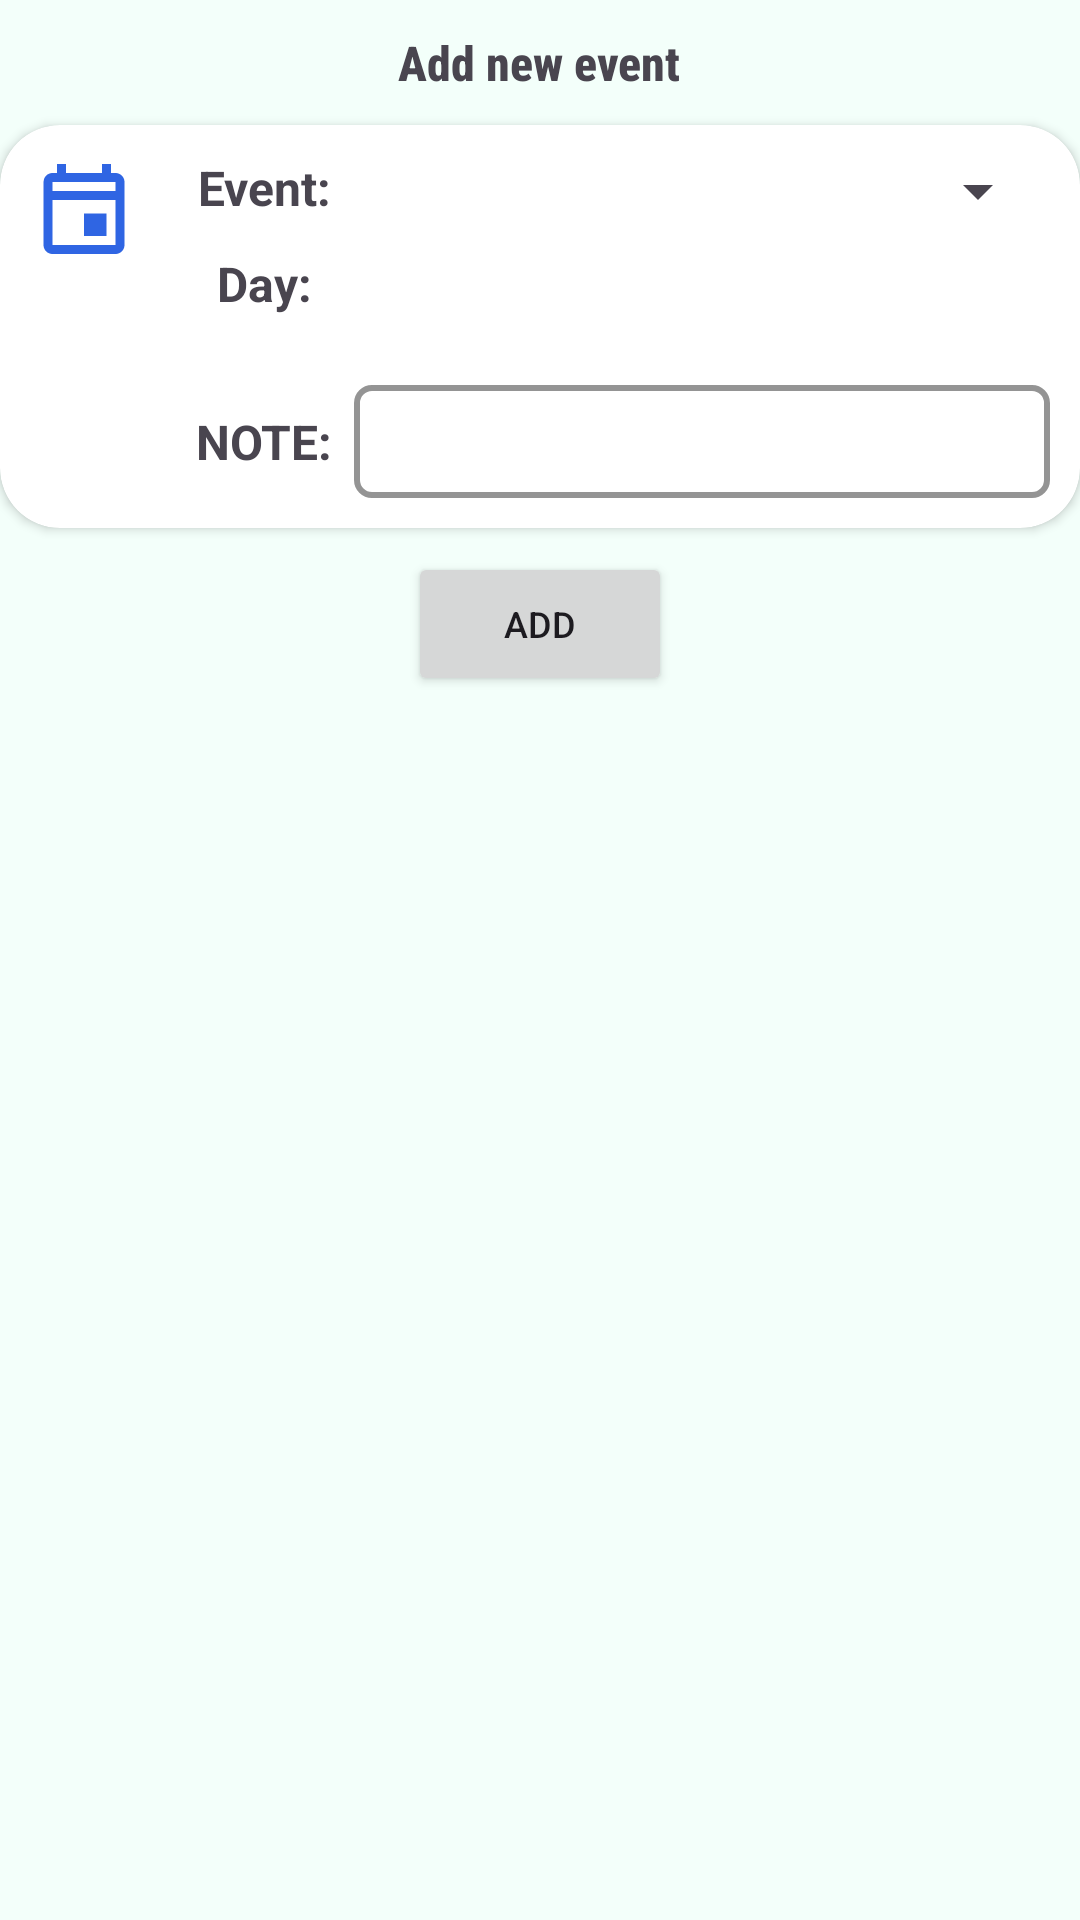

Where icons sit on this 1080*1920 app screen, as (x1, y1, x2, y2):
calendar: (43, 164, 125, 254)
